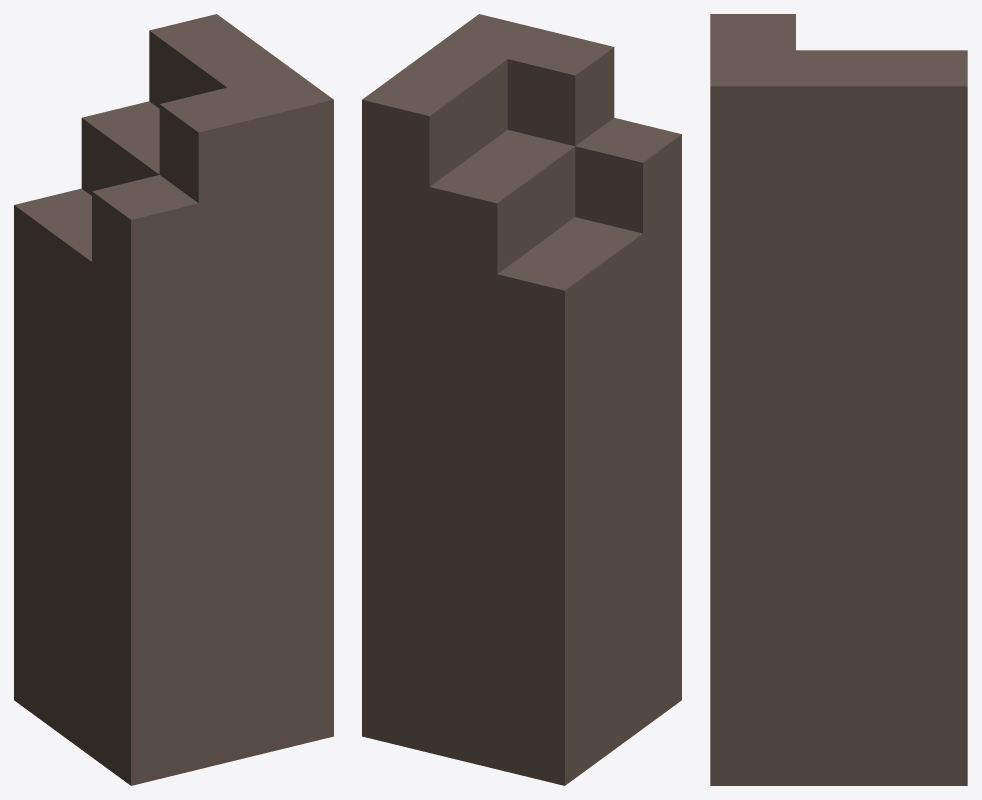
File: sheep__leg_fl.glb
3 renders of one model, left to right at view 1: azimuth 30°, elevation 25°; view 2: azimuth 150°, elevation 25°; view 3: azimuth 270°, elevation 25°, orthographic. The views are drawn at different scales.
Parts seen in each view (by area): view 1: sheep__leg_fl; view 2: sheep__leg_fl; view 3: sheep__leg_fl.
Part boxes in pixels (x1,y1,x2,y2): sheep__leg_fl: (14,14,333,785); sheep__leg_fl: (362,14,681,785); sheep__leg_fl: (710,14,967,785).
Size of the model in its own units: 0.3 by 0.9 by 0.3.
1 material, 1 textured.
